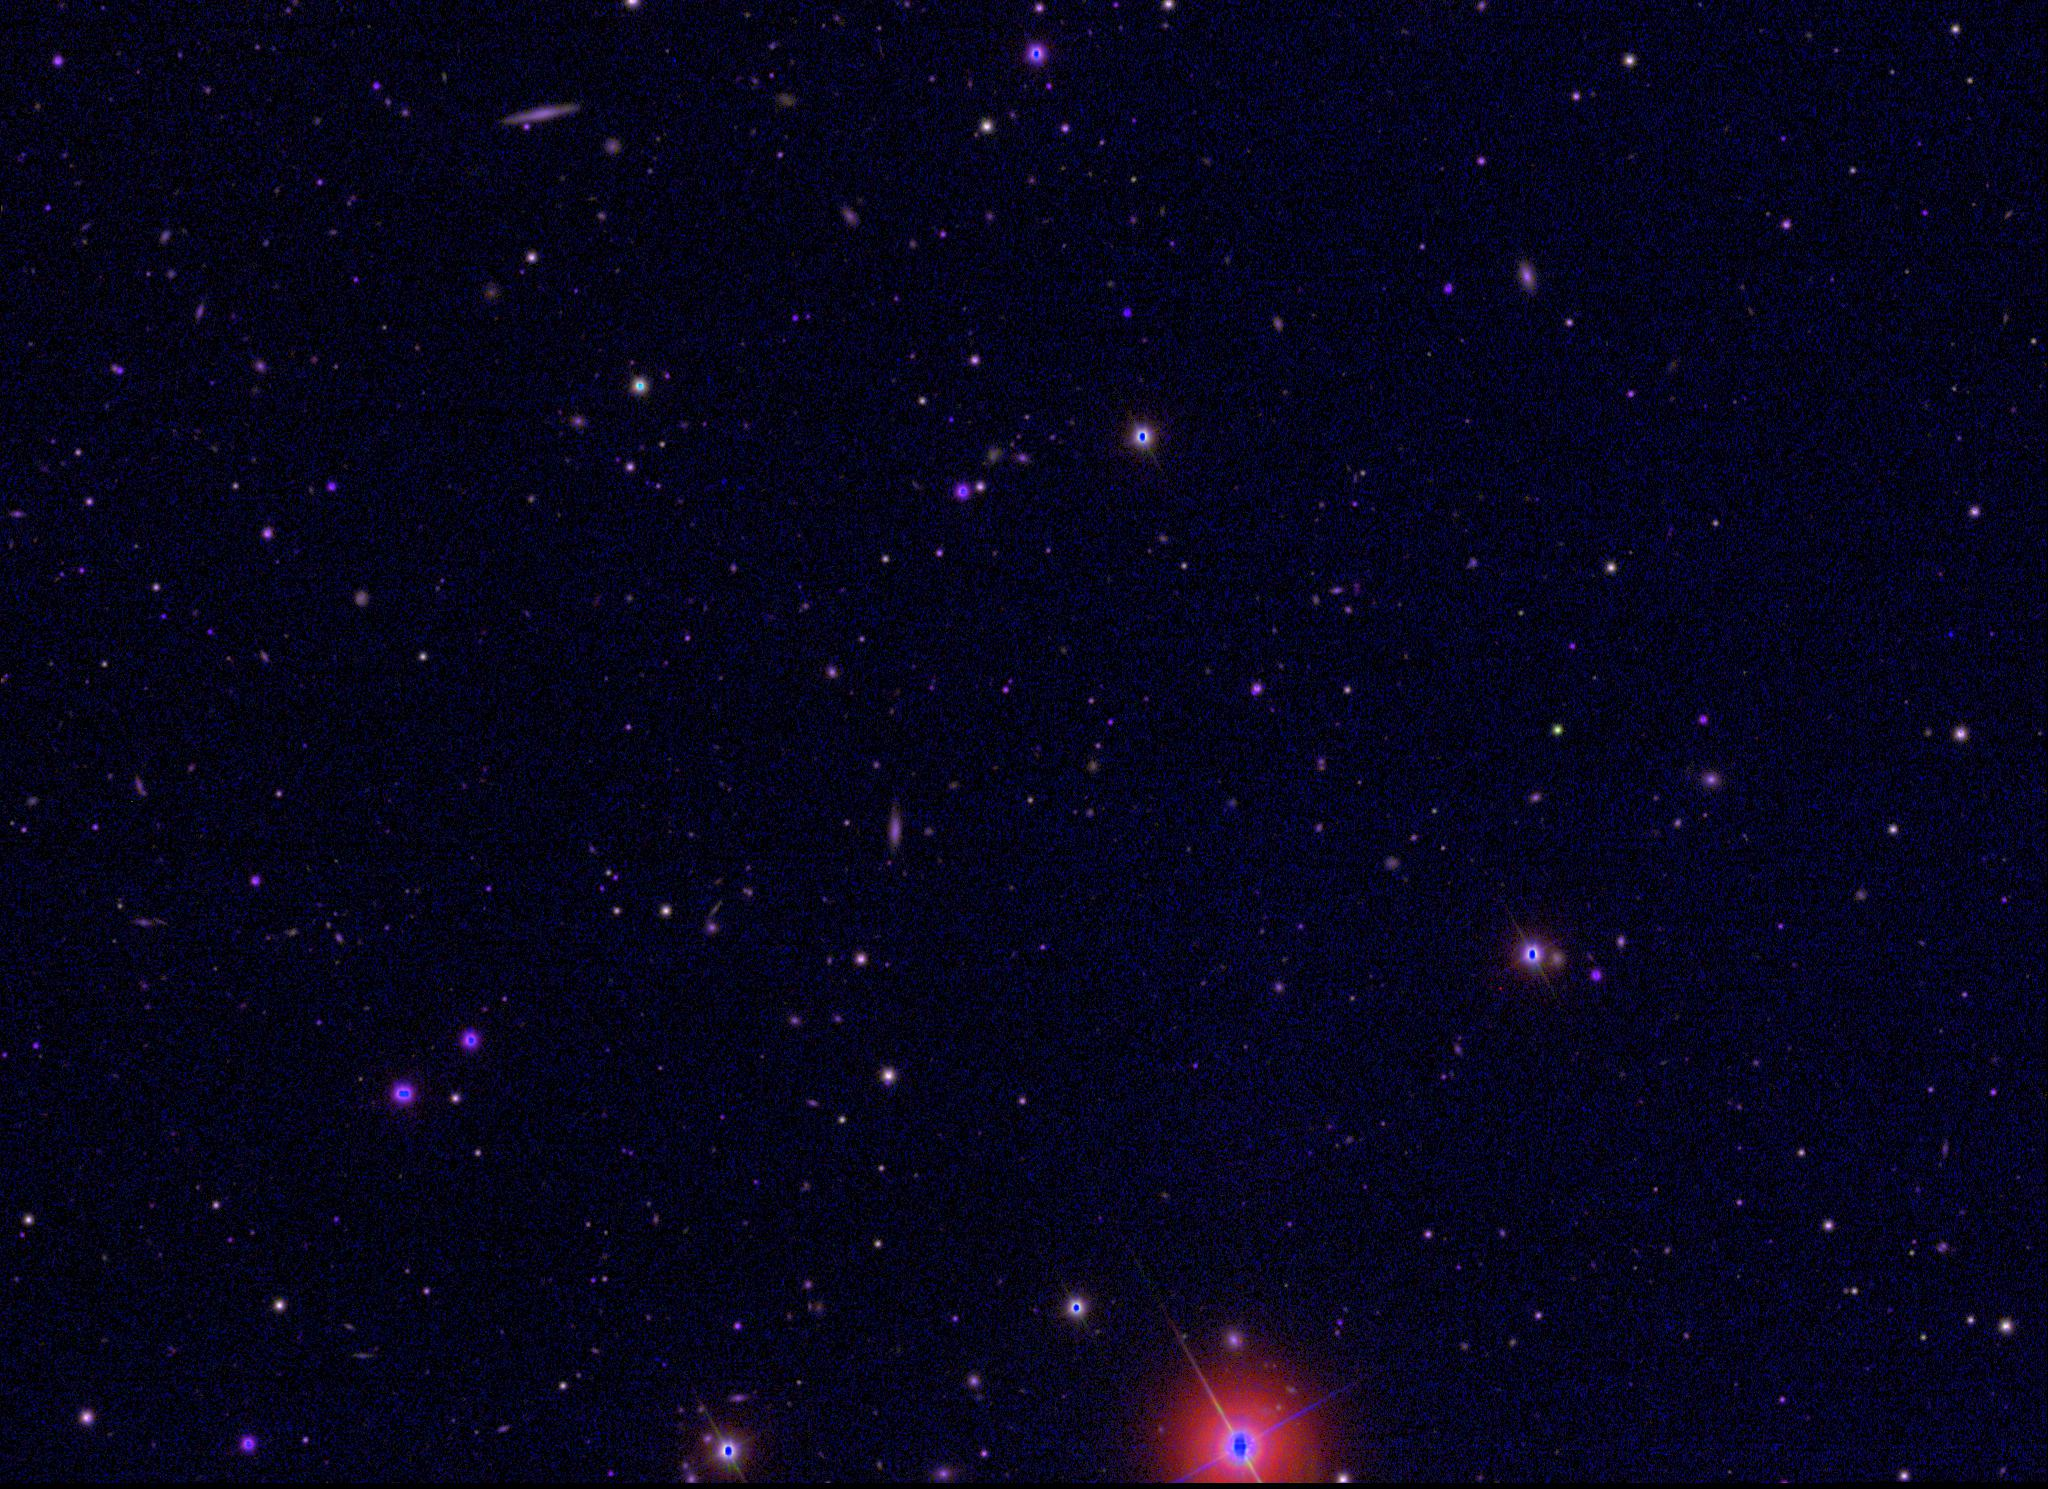L: (1945, 628, 1957, 643)
